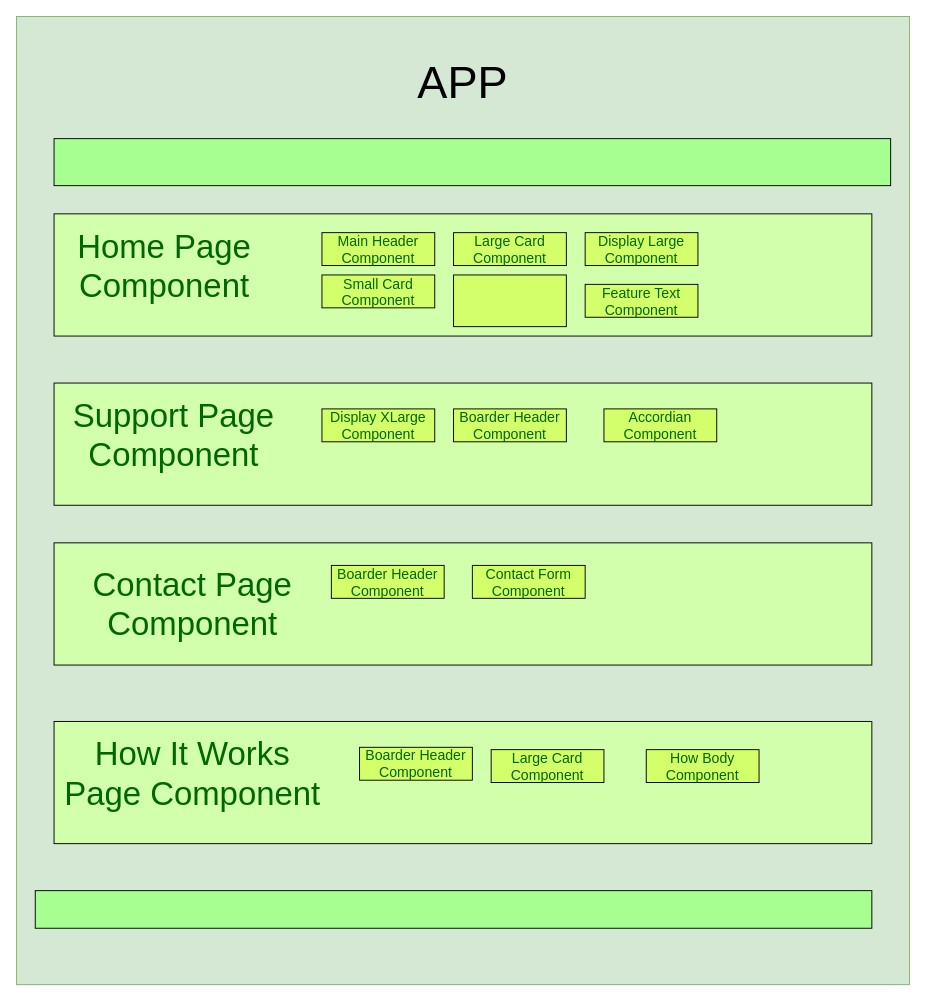
This 926x1001 diagram has some shape labels left out. Each missing label, with the centre of its shape:
Buy Back Header Component: (509,300)
Footer Component: (453,909)
Navigation Component: (472,162)
